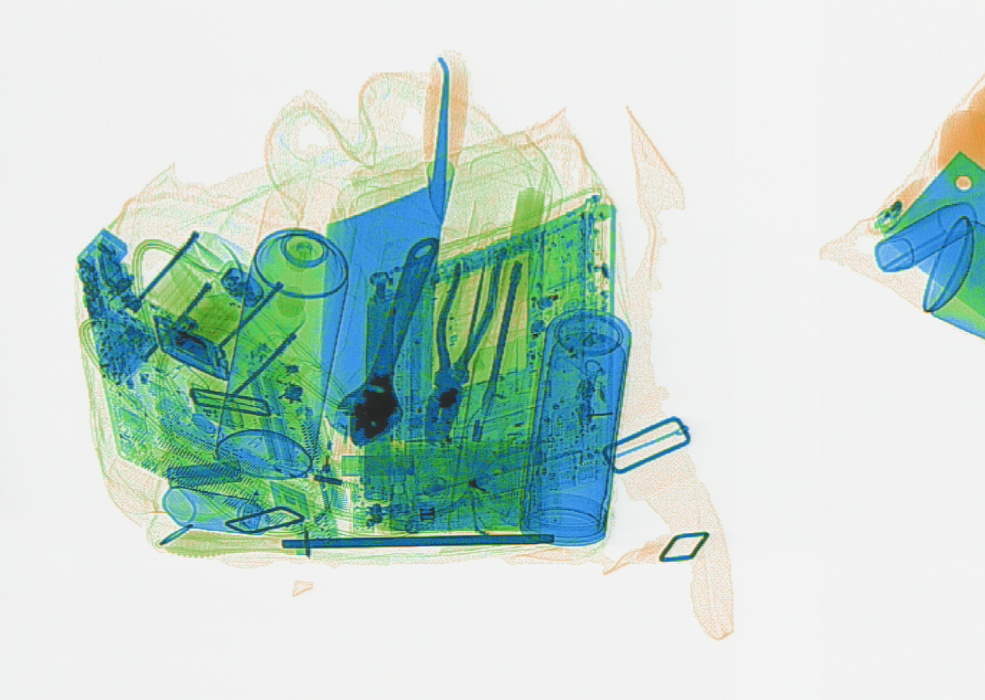knife: (319, 47, 471, 443), (880, 146, 983, 324)
lighter: (867, 162, 952, 240), (307, 411, 350, 520)
pressure: (210, 175, 360, 482)
